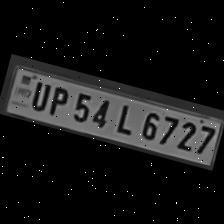2: (172, 114, 200, 152)
4: (86, 92, 116, 128)
5: (66, 86, 96, 124)
6: (135, 105, 164, 142)
7: (190, 119, 216, 156), (155, 110, 181, 146)
L: (109, 97, 140, 136)
P: (43, 80, 72, 117)
U: (26, 76, 53, 112)
